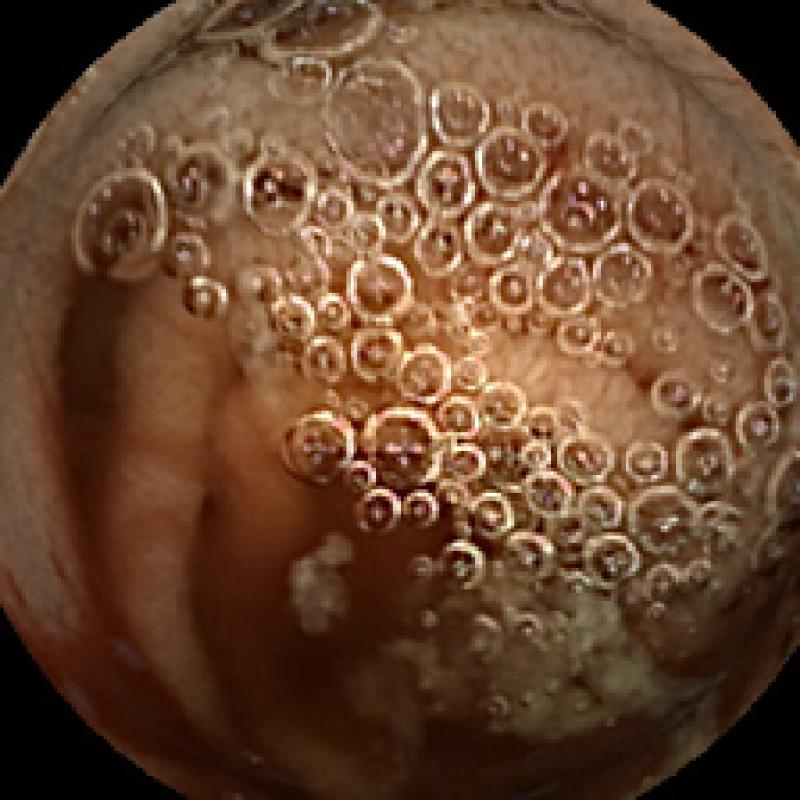bleeding: (36, 489, 774, 796)
